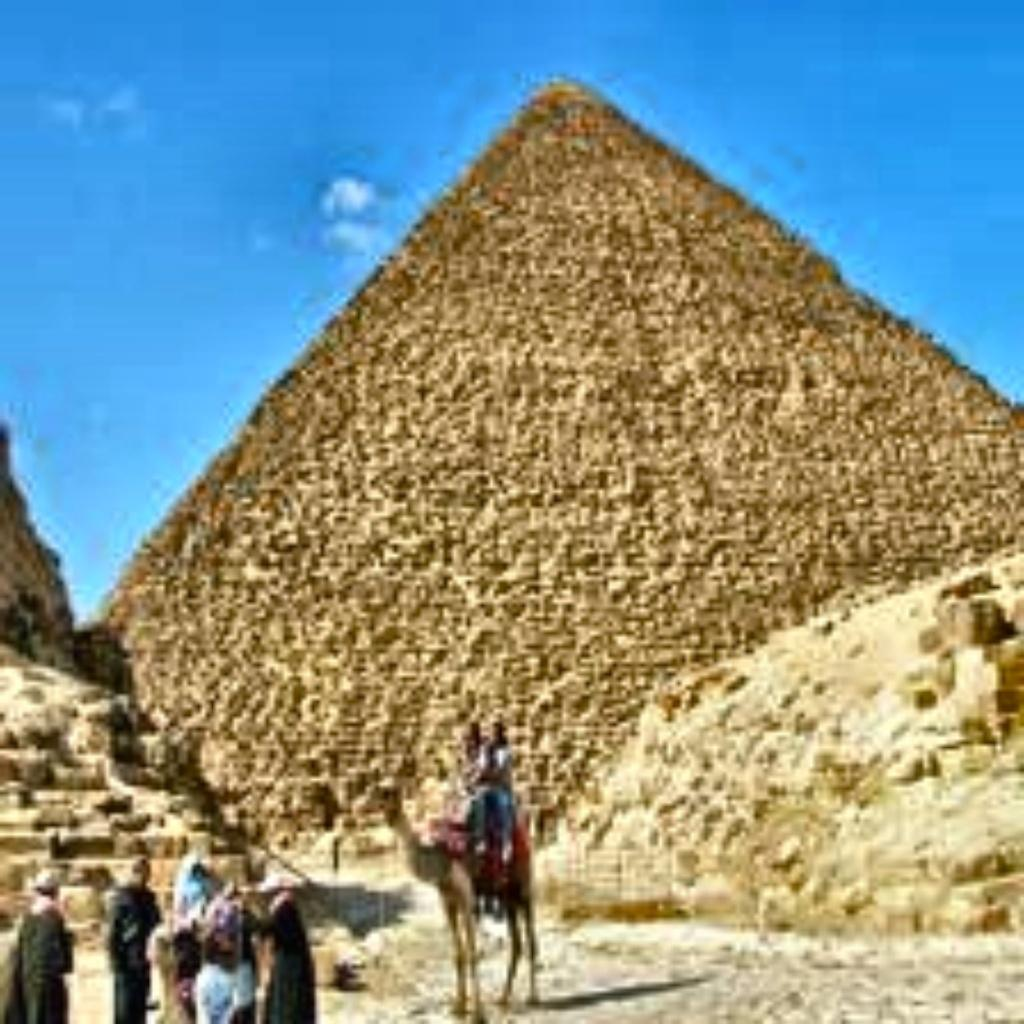Great Pyramids of Giza: (0, 60, 1019, 932)
